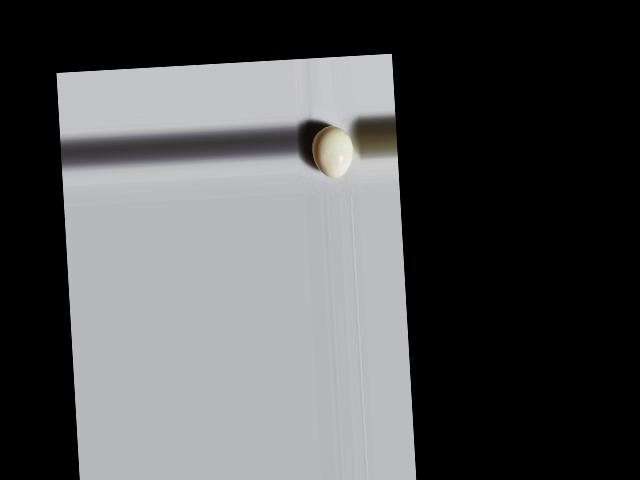egg: (310, 124, 354, 178)
